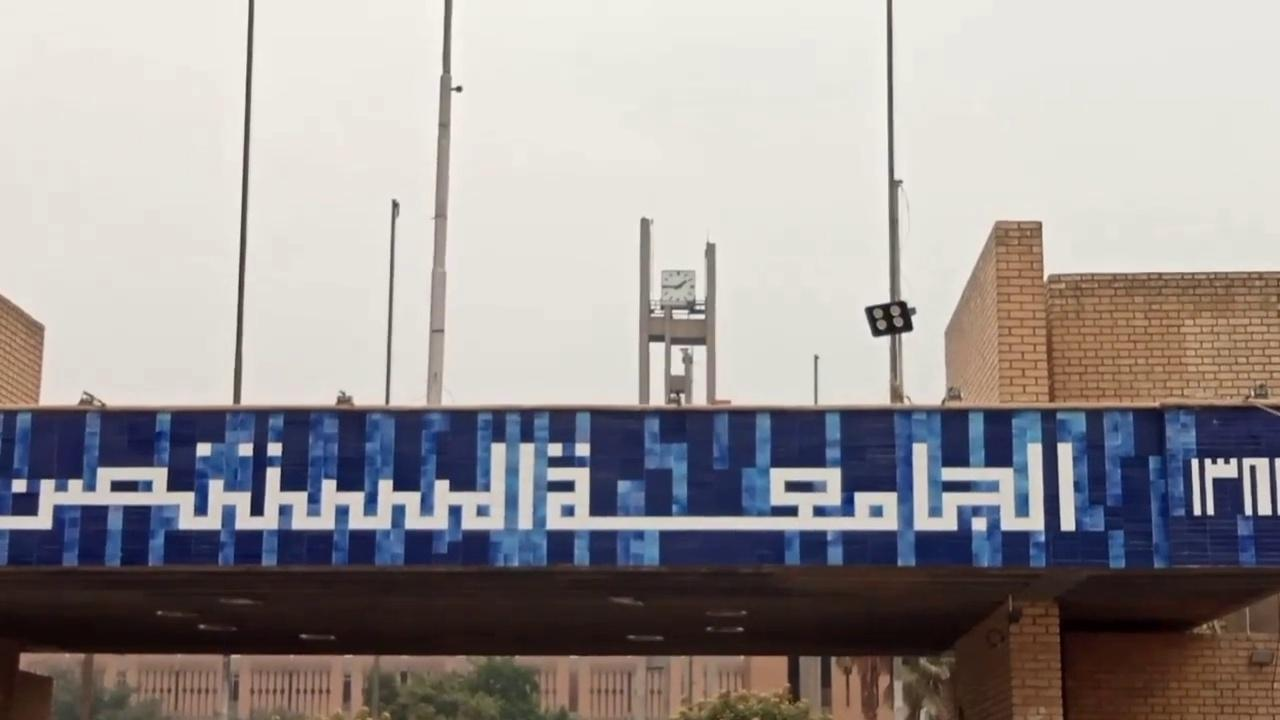person: (899, 655, 950, 719)
tree: (42, 652, 954, 718), (367, 655, 571, 718), (44, 652, 165, 719), (672, 684, 832, 718), (460, 655, 543, 718)
